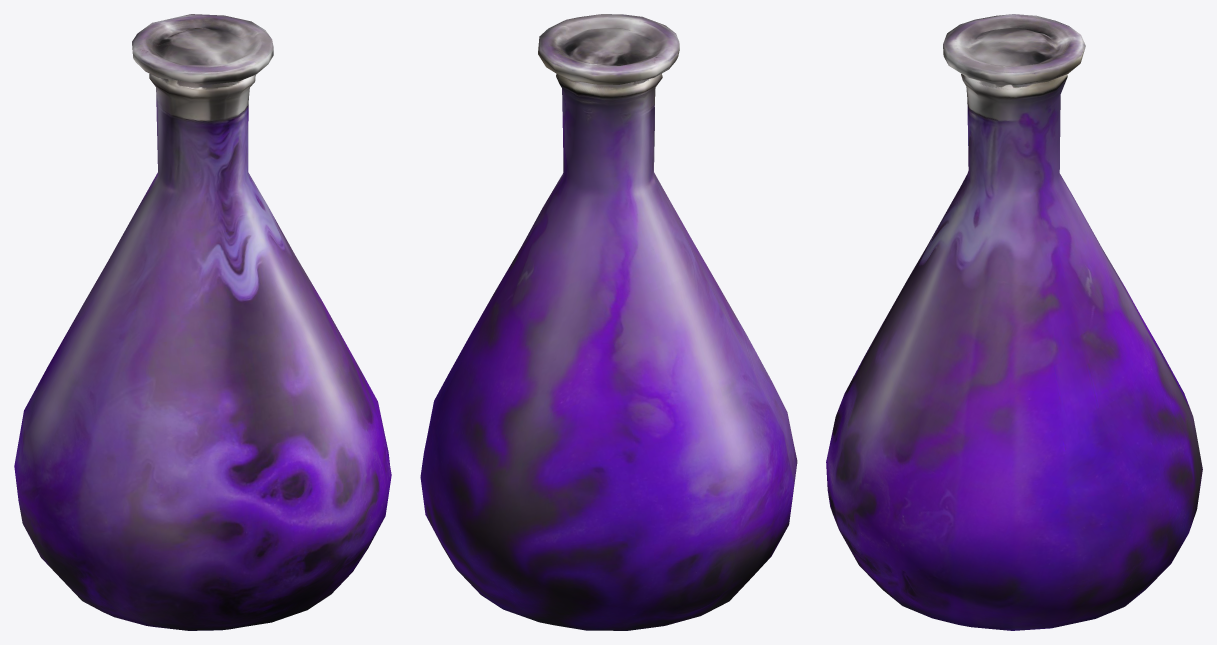
3 renders of one model, left to right at view 1: azimuth 30°, elevation 25°; view 2: azimuth 150°, elevation 25°; view 3: azimuth 270°, elevation 25°, orthographic.
Visible parts, largest first — view 1: Mesh1.0; view 2: Mesh1.0; view 3: Mesh1.0.
Boxes of the visible parts, left/top/right/bottom form: Mesh1.0: left=14, top=14, right=391, bottom=630; Mesh1.0: left=420, top=14, right=797, bottom=630; Mesh1.0: left=826, top=14, right=1202, bottom=630.
Bounding box in the file's own units: 128 × 200 × 127.
1 material, 1 textured.
